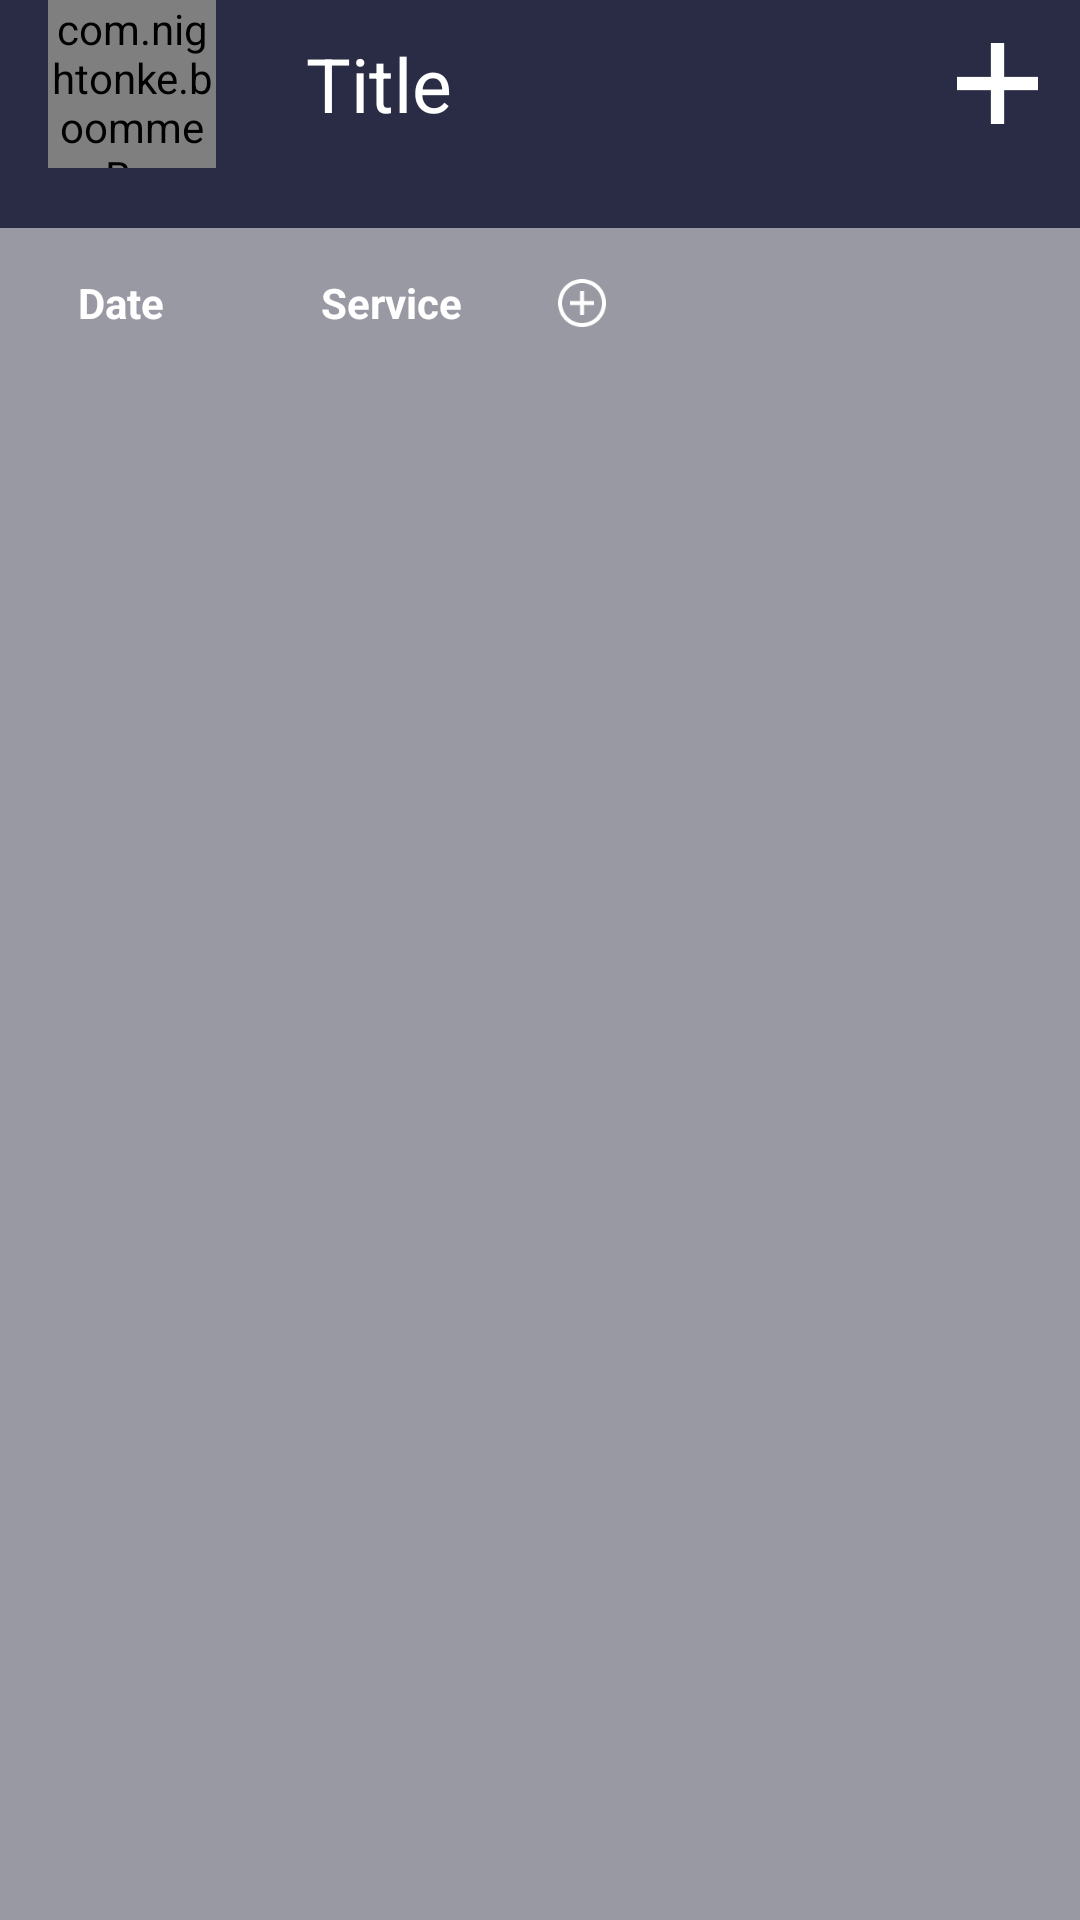

Screen size 1080x1920. Icon name, then its box in pixels as (x1, y1, x2, y2):
plus: (957, 43, 1038, 124)
